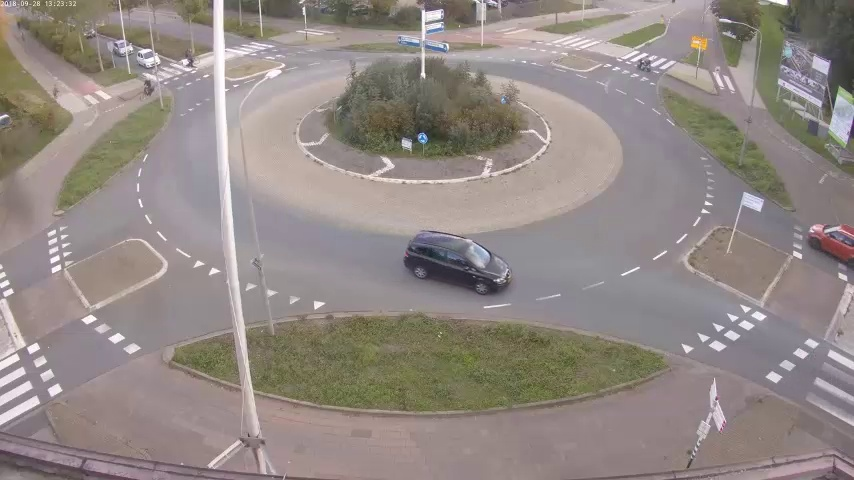bicycle: (633, 57, 655, 73)
car: (403, 229, 519, 293), (800, 217, 852, 267), (136, 43, 158, 71), (114, 35, 132, 55)
